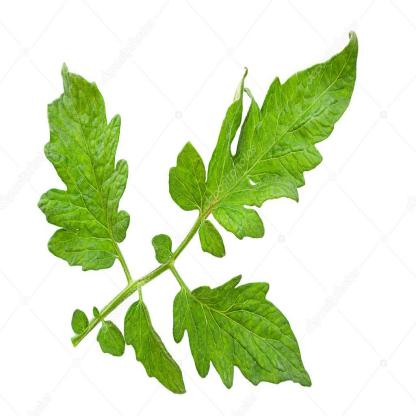tomato leaf: (155, 34, 375, 251), (31, 62, 138, 269), (171, 282, 330, 394), (122, 289, 188, 400)
